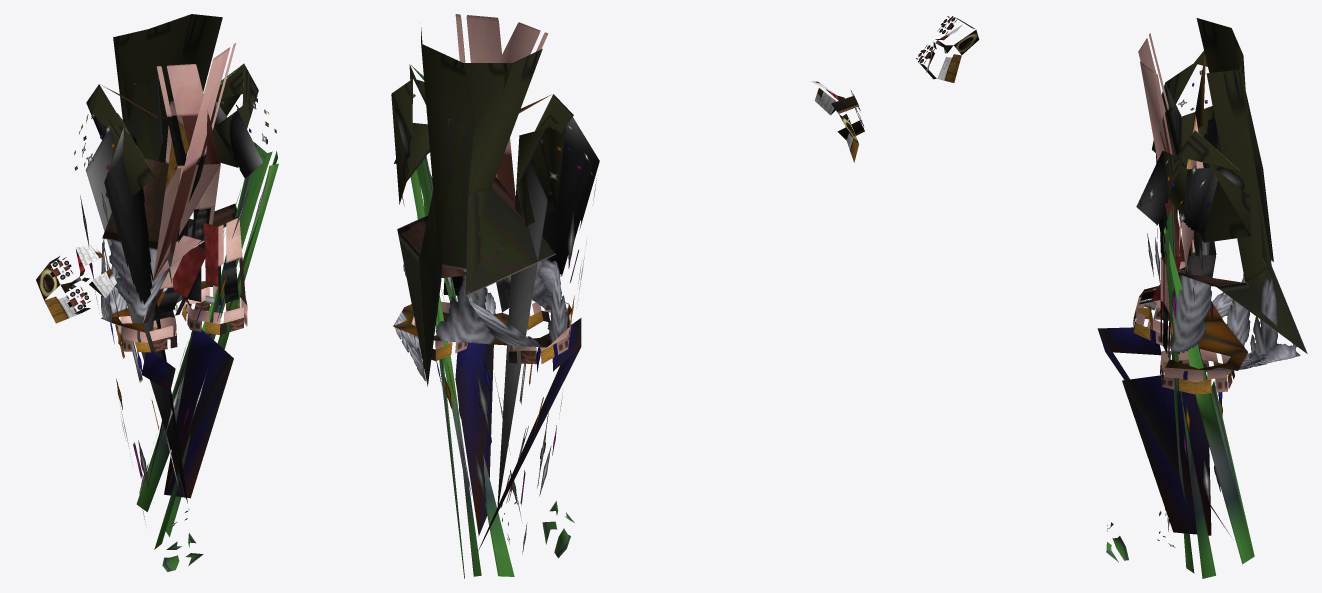
3 renders of one model, left to right at view 1: azimuth 30°, elevation 25°; view 2: azimuth 150°, elevation 25°; view 3: azimuth 270°, elevation 25°, orthographic. The views are drawn at different scales.
Visible parts, largest first — view 1: T1L6M003_23; view 2: T1L6M003_23; view 3: T1L6M003_23.
Part boxes in pixels (x1,y1,x2,y2): T1L6M003_23: [36, 14, 278, 571]; T1L6M003_23: [391, 14, 864, 578]; T1L6M003_23: [916, 16, 1307, 578].
Size of the model in its own units: 0.9496 by 1.26 by 0.8296.
